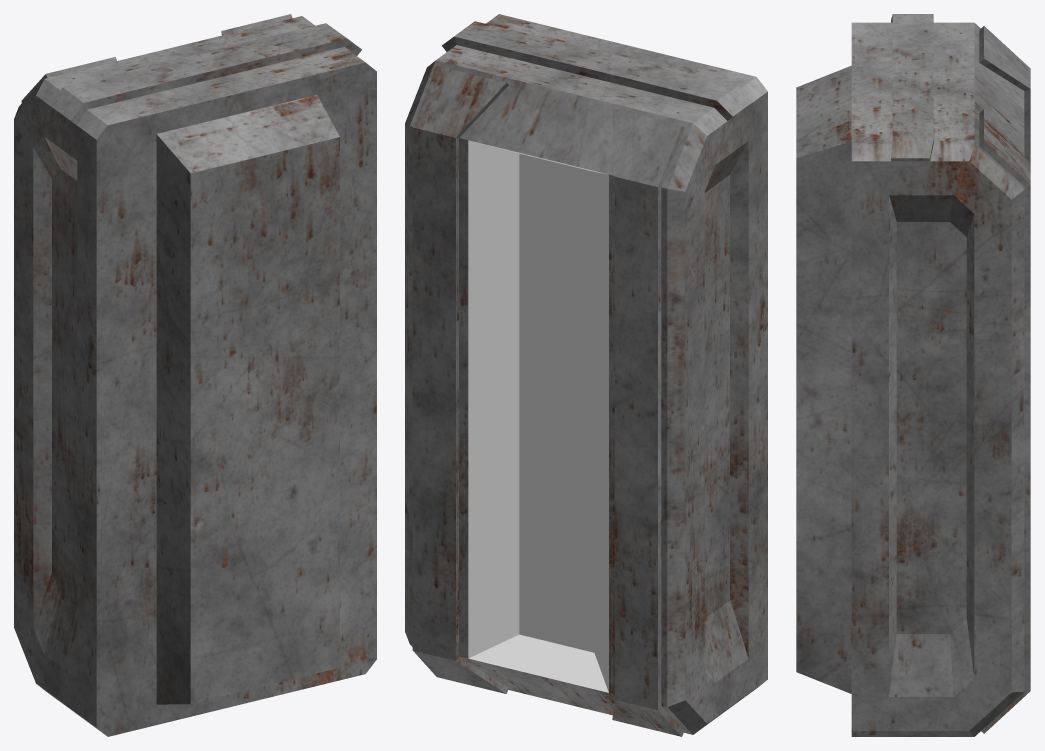
File: Luz_ndividual.fbx
The picture shows the model from 3 angles, left to right: view 1: azimuth 30°, elevation 25°; view 2: azimuth 150°, elevation 25°; view 3: azimuth 270°, elevation 25°; orthographic projection. The views are drawn at different scales.
Parts seen in each view (by area): view 1: Linterna individual.001; view 2: Linterna individual.001; view 3: Linterna individual.001.
Part boxes in pixels (x1,y1,x2,y2): Linterna individual.001: (14,14,376,736); Linterna individual.001: (405,14,767,736); Linterna individual.001: (796,14,1030,736).
Bounding box in the file's own units: 56.59 × 115 × 40.68.
Materials: 2 (1 with a texture image).
